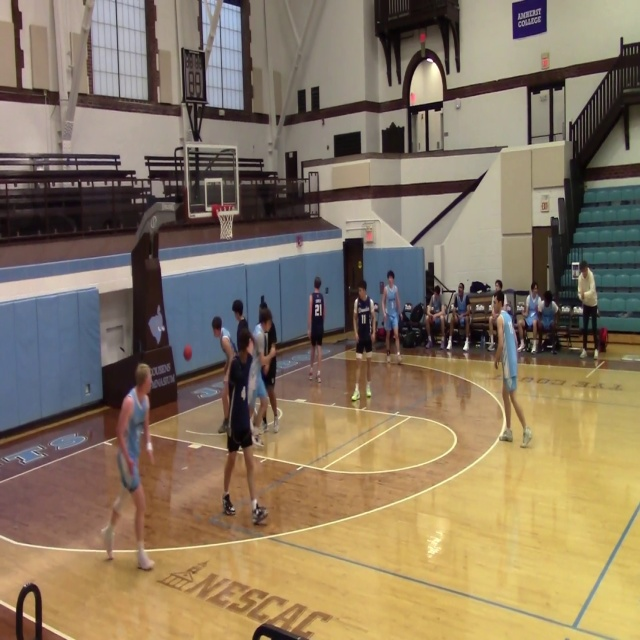Basketball: (183, 344, 192, 361), (377, 327, 385, 340), (419, 32, 426, 42)
